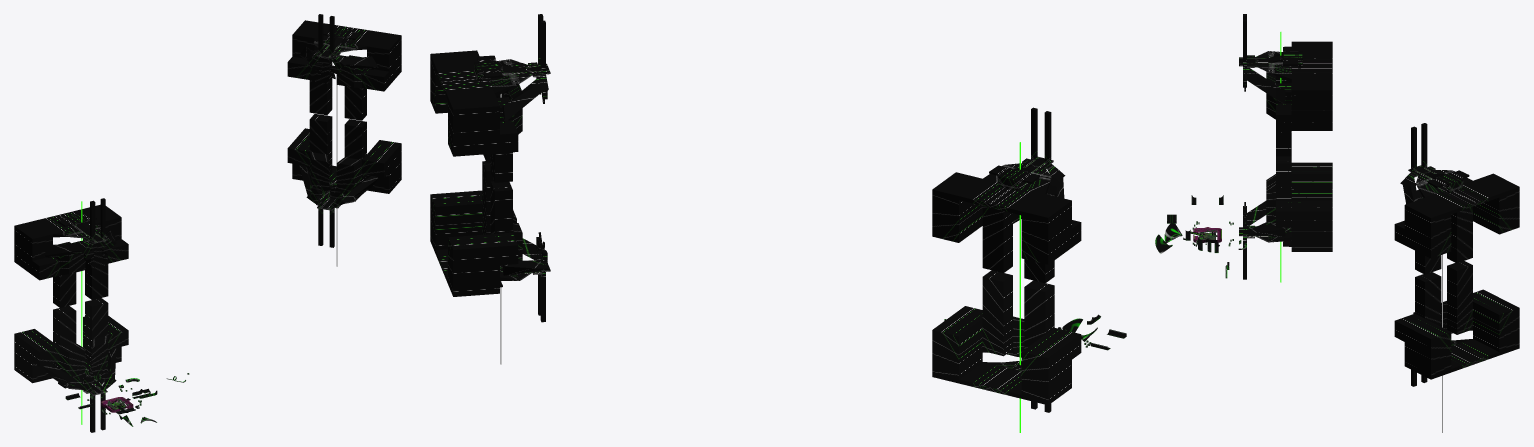
The model's file is Level1.glb.
3 views of the same model, side by side, from view 1: azimuth 30°, elevation 25°; view 2: azimuth 150°, elevation 25°; view 3: azimuth 270°, elevation 25° (orthographic). The views are drawn at different scales.
Visible parts, largest first — view 1: Cube.001, Cube.030, Cube_coll.019, Cube.002; view 2: Cube_coll.019, Cube.030, Cube.001, Cube.002; view 3: Cube.001, Cube.002, Cube.030, Cube_coll.019.
Part boxes in pixels (x1,y1,x2,y2): Cube.001: (287,14,401,120); Cube.030: (14,198,128,307); Cube_coll.019: (14,298,128,432); Cube.002: (287,114,401,247); Cube_coll.019: (932,270,1081,412); Cube.030: (932,107,1081,283); Cube.001: (430,14,550,182); Cube.002: (430,161,550,322); Cube.001: (1394,123,1519,274); Cube.002: (1394,261,1519,386); Cube.030: (1239,14,1332,156); Cube_coll.019: (1239,156,1332,279).
Size of the model in its own units: 1745 by 1117 by 1139.
5 materials, 3 textured.
